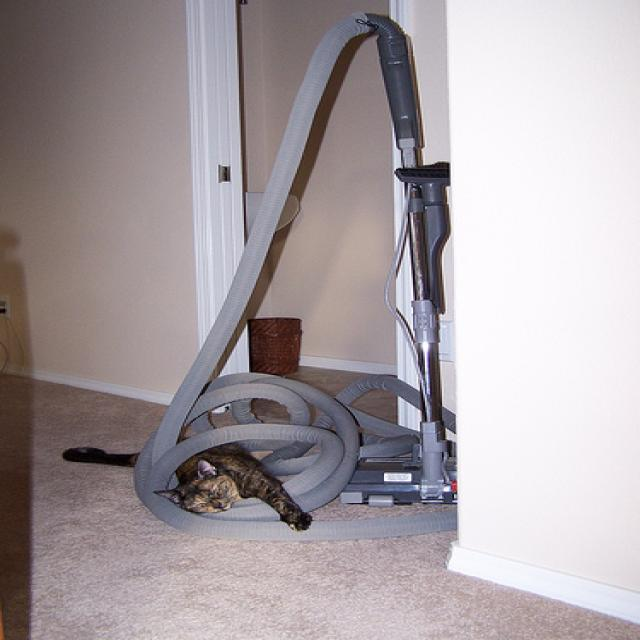cat: (62, 442, 317, 534)
